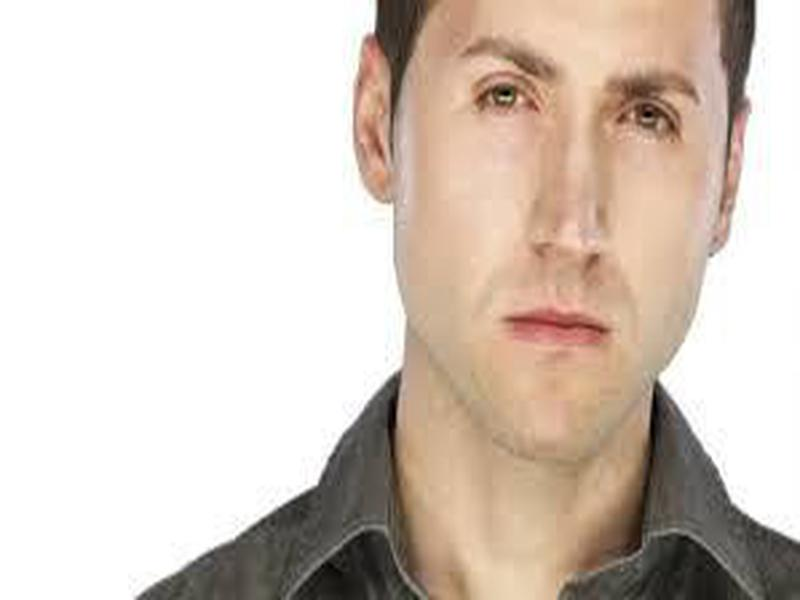without_mask: (397, 4, 729, 472)
